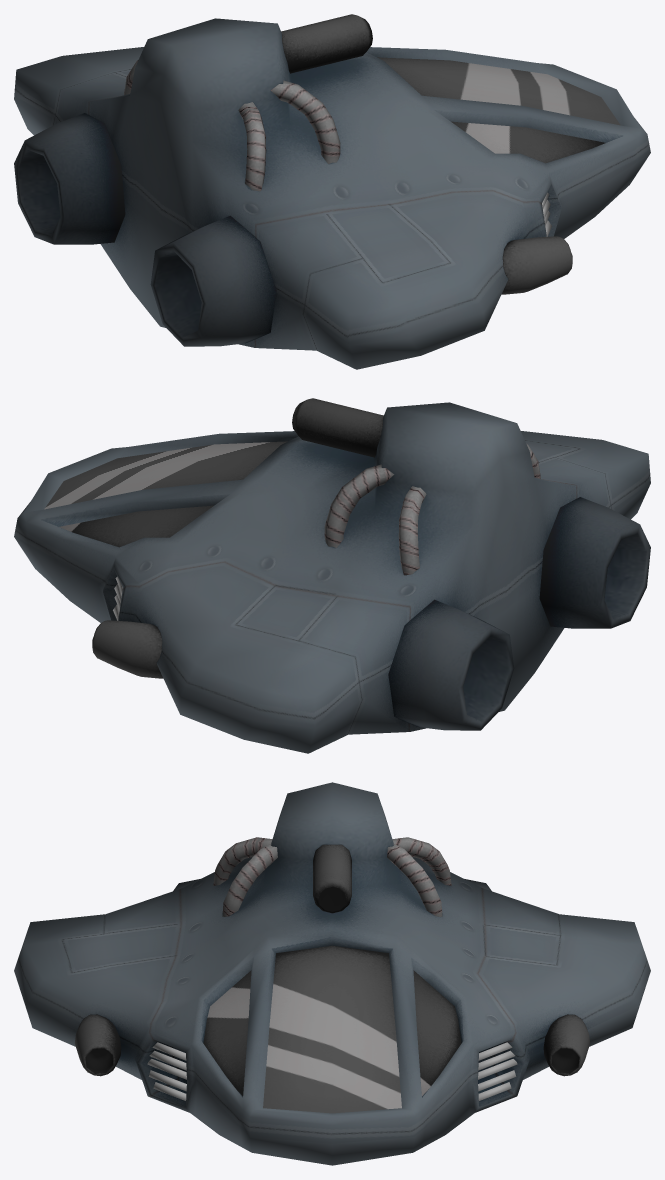
The model's file is spaceship.fbx.
3 renders of one model, top to bottom at view 1: azimuth 30°, elevation 25°; view 2: azimuth 150°, elevation 25°; view 3: azimuth 270°, elevation 25°, orthographic. The views are drawn at different scales.
Parts seen in each view (by area): view 1: SpaceShip; view 2: SpaceShip; view 3: SpaceShip.
Part boxes in pixels (bbox=[...]): SpaceShip: bbox=[14, 14, 650, 369]; SpaceShip: bbox=[14, 398, 650, 753]; SpaceShip: bbox=[14, 782, 650, 1165].
Bounding box in the file's own units: 4.7 × 2.43 × 5.56.
1 material, 1 textured.
